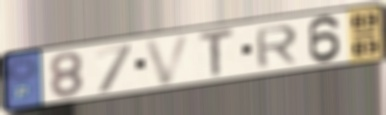6: (306, 15, 342, 65)
7: (94, 43, 132, 94)
8: (47, 50, 86, 99)
R: (253, 23, 300, 70)
T: (197, 26, 237, 80)
V: (142, 32, 195, 88)
